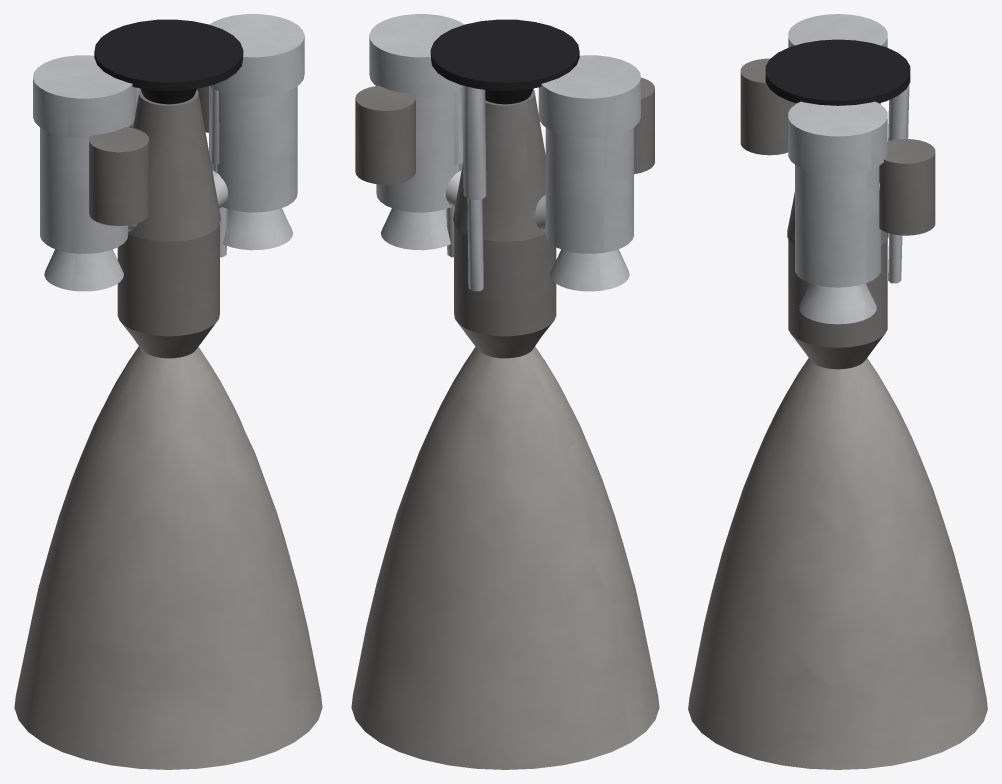
File: prop10_raptor.glb
3 views of the same model, side by side, from view 1: azimuth 30°, elevation 25°; view 2: azimuth 150°, elevation 25°; view 3: azimuth 270°, elevation 25° (orthographic). The views are drawn at different scales.
Parts seen in each view (by area): view 1: nozzle, ox_turbopump, fuel_turbopump, chamber, injector_dome, gimbal_mount, preburners, gimbal_actuators; view 2: nozzle, fuel_turbopump, ox_turbopump, chamber, gimbal_mount, injector_dome, preburners, gimbal_actuators, hot_gas_ducts; view 3: nozzle, ox_turbopump, preburners, gimbal_mount, chamber, fuel_turbopump, gimbal_actuators.
Boxes of the visible parts, bbox=[...] form: nozzle: bbox=[14, 346, 322, 769]; ox_turbopump: bbox=[209, 14, 304, 250]; fuel_turbopump: bbox=[33, 55, 135, 291]; chamber: bbox=[117, 224, 219, 358]; injector_dome: bbox=[128, 89, 220, 241]; gimbal_mount: bbox=[94, 19, 243, 104]; preburners: bbox=[89, 86, 208, 225]; gimbal_actuators: bbox=[129, 87, 227, 257]; nozzle: bbox=[351, 346, 659, 769]; fuel_turbopump: bbox=[538, 55, 640, 291]; ox_turbopump: bbox=[369, 14, 464, 250]; chamber: bbox=[454, 224, 556, 358]; gimbal_mount: bbox=[430, 19, 579, 104]; injector_dome: bbox=[453, 89, 545, 241]; preburners: bbox=[355, 77, 654, 184]; gimbal_actuators: bbox=[446, 85, 486, 291]; hot_gas_ducts: bbox=[446, 170, 545, 231]; nozzle: bbox=[688, 358, 987, 769]; ox_turbopump: bbox=[788, 101, 887, 324]; preburners: bbox=[740, 58, 935, 235]; gimbal_mount: bbox=[765, 39, 910, 105]; chamber: bbox=[788, 239, 887, 369]; fuel_turbopump: bbox=[788, 14, 887, 104]; gimbal_actuators: bbox=[888, 84, 909, 283].
Bounding box in the file's own units: 1.32 × 3.1 × 1.32.
4 materials, 3 textured.
